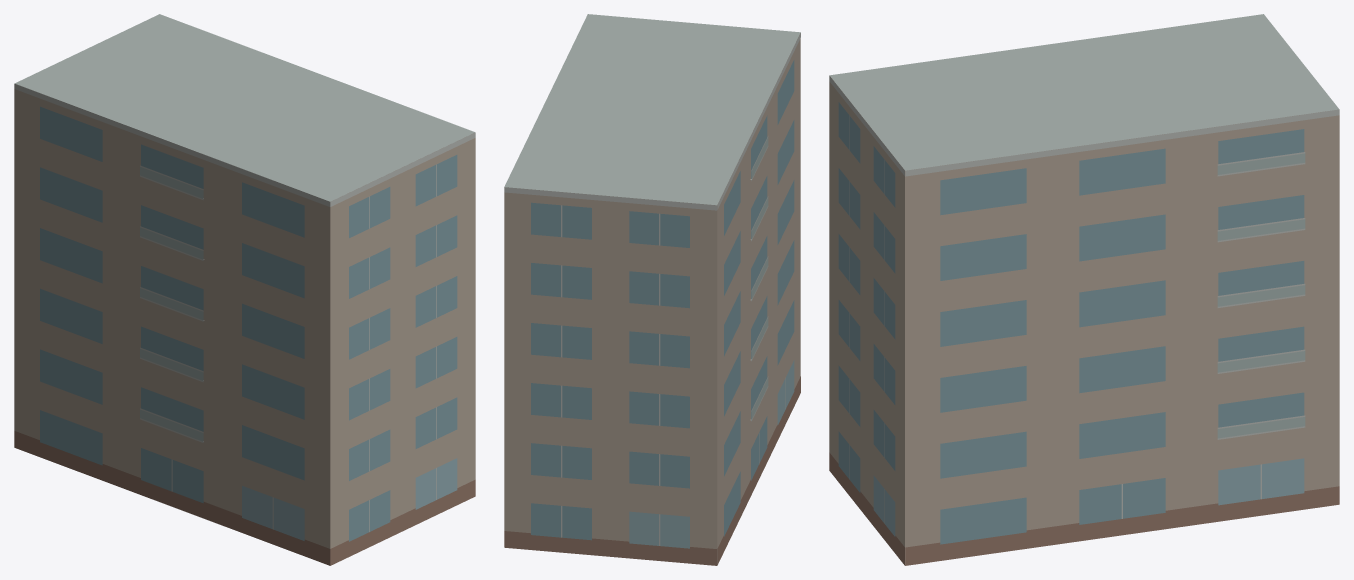
Rendered from survey-upis-32862828.glb.
3 renders of one model, left to right at view 1: azimuth 30°, elevation 25°; view 2: azimuth 150°, elevation 25°; view 3: azimuth 270°, elevation 25°, orthographic. The views are drawn at different scales.
Parts seen in each view (by area): view 1: survey-upis-32862828.tmp; view 2: survey-upis-32862828.tmp; view 3: survey-upis-32862828.tmp.
Boxes of the visible parts, box(x1,y1,x2,y2) form: survey-upis-32862828.tmp: box(14, 14, 475, 565); survey-upis-32862828.tmp: box(504, 14, 800, 565); survey-upis-32862828.tmp: box(829, 14, 1339, 565).
Size of the model in its own units: 13.96 by 16.4 by 19.2.
